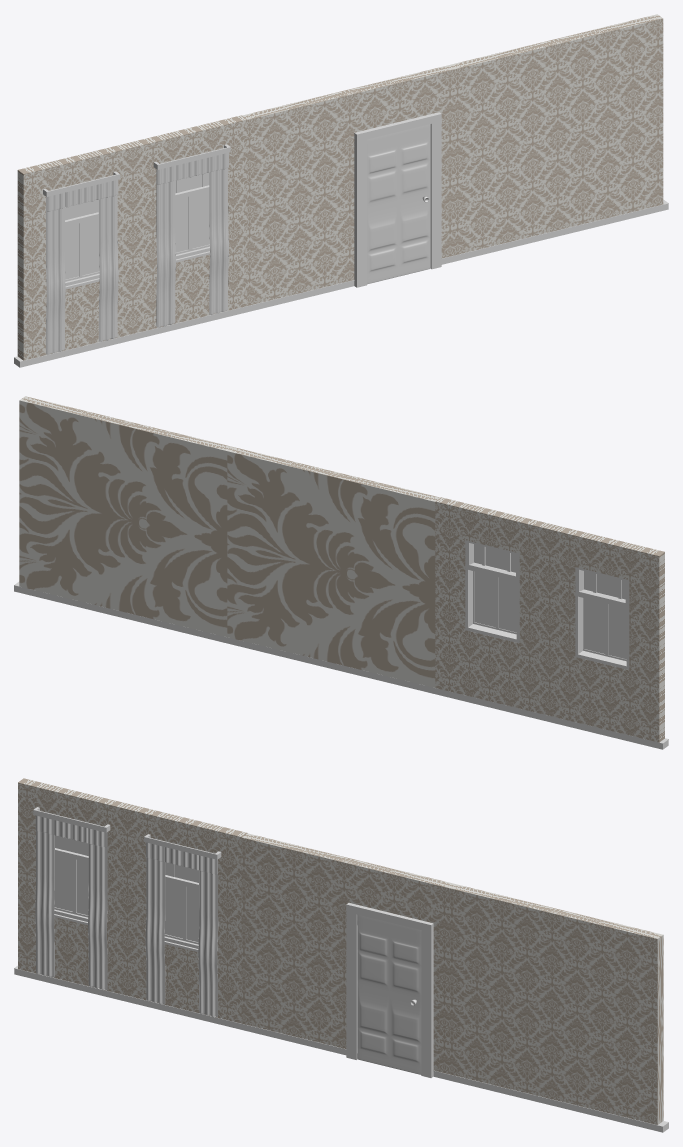
The model's file is ModularAssetsForProject7.fbx.
3 views of the same model, one above another, from view 1: azimuth 30°, elevation 25°; view 2: azimuth 150°, elevation 25°; view 3: azimuth 330°, elevation 25° (orthographic).
Parts seen in each view (by area): view 1: Cube.025, Cube.021, Cube, Cube.022, Cube.024, Cube.008, Cube.023, Cube.019, Cube.013, Cube.018, Cube.014, Cube.001; view 2: Cube.025, Cube.021, Cube, Cube.008, Cube.023, Cube.001; view 3: Cube.025, Cube.021, Cube, Cube.022, Cube.024, Cube.008, Cube.023, Cube.013, Cube.019, Cube.014, Cube.018, Cube.001.
Boxes of the visible parts, left/top/right/bottom form: Cube.025: left=450, top=14, right=663, bottom=255; Cube.021: left=242, top=65, right=455, bottom=305; Cube: left=17, top=115, right=247, bottom=360; Cube.022: left=367, top=124, right=430, bottom=284; Cube.024: left=354, top=112, right=441, bottom=287; Cube.008: left=65, top=173, right=209, bottom=279; Cube.023: left=14, top=199, right=668, bottom=367; Cube.019: left=156, top=169, right=175, bottom=327; Cube.013: left=98, top=194, right=118, bottom=341; Cube.018: left=209, top=167, right=228, bottom=314; Cube.014: left=46, top=197, right=65, bottom=354; Cube.001: left=65, top=174, right=209, bottom=289; Cube.025: left=19, top=396, right=232, bottom=636; Cube.021: left=227, top=447, right=440, bottom=687; Cube: left=435, top=497, right=664, bottom=742; Cube.008: left=474, top=544, right=626, bottom=659; Cube.023: left=14, top=581, right=668, bottom=749; Cube.001: left=465, top=540, right=629, bottom=669; Cube.025: left=449, top=884, right=663, bottom=1124; Cube.021: left=241, top=833, right=454, bottom=1074; Cube: left=18, top=778, right=247, bottom=1023; Cube.022: left=357, top=914, right=421, bottom=1074; Cube.024: left=346, top=903, right=433, bottom=1077; Cube.008: left=54, top=835, right=199, bottom=942; Cube.023: left=14, top=965, right=668, bottom=1132; Cube.013: left=88, top=832, right=107, bottom=990; Cube.019: left=145, top=858, right=165, bottom=1004; Cube.014: left=35, top=831, right=54, bottom=977; Cube.018: left=198, top=870, right=218, bottom=1017; Cube.001: left=54, top=836, right=198, bottom=951.
Bounding box in the file's own units: 6659 × 1890 × 179.
